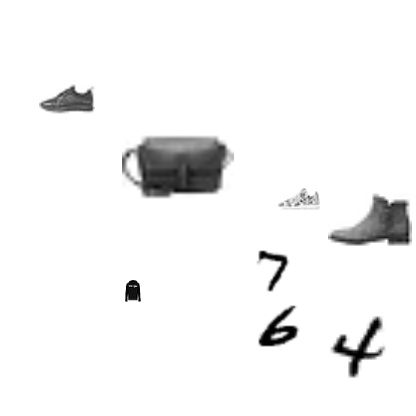4: (316, 305, 400, 389)
6: (249, 302, 305, 358)
7: (245, 237, 301, 293)
Ankle_boot: (328, 176, 412, 260)
Bag: (122, 109, 234, 221)
Pullover: (122, 280, 144, 302)
Sneaker: (39, 71, 95, 127), (278, 178, 320, 220)
